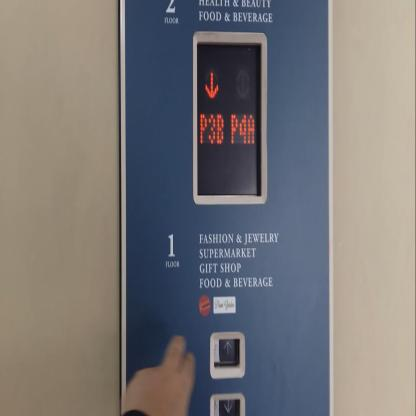down: (208, 391, 249, 416)
led: (189, 25, 269, 207)
up: (207, 326, 246, 382)
